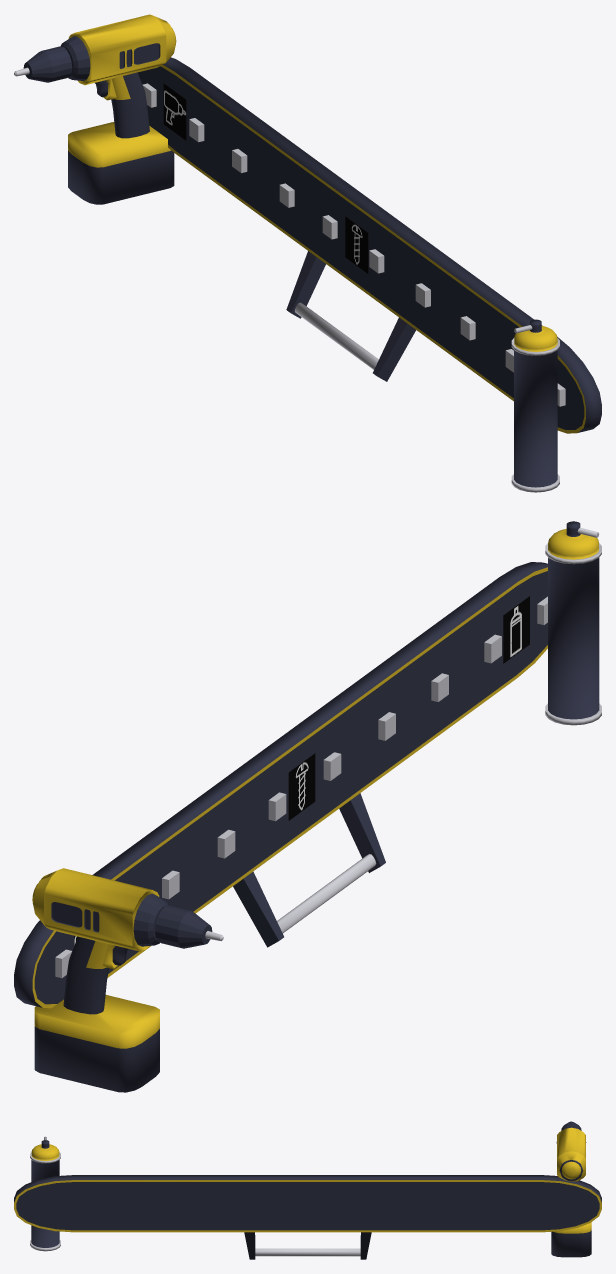
Rendered from FloodTools.fbx.
3 renders of one model, top to bottom at view 1: azimuth 30°, elevation 25°; view 2: azimuth 150°, elevation 25°; view 3: azimuth 270°, elevation 25°, orthographic. The views are drawn at different scales.
Parts seen in each view (by area): view 1: Belt, Trigger_Main, SprayCan, Icons, Handle; view 2: Belt, Trigger_Main, SprayCan, Icons, Handle; view 3: Belt, Trigger_Main, SprayCan, Handle.
Part boxes in pixels (x1,y1,x2,y2): Belt: [137, 57, 601, 433]; Trigger_Main: [23, 14, 176, 204]; SprayCan: [511, 319, 559, 492]; Icons: [163, 83, 368, 273]; Handle: [294, 302, 378, 369]; Belt: [14, 562, 547, 1008]; Trigger_Main: [32, 868, 212, 1092]; SprayCan: [545, 521, 601, 725]; Icons: [74, 596, 529, 945]; Handle: [277, 854, 376, 933]; Belt: [14, 1175, 601, 1259]; Trigger_Main: [551, 1121, 591, 1257]; SprayCan: [30, 1136, 60, 1251]; Handle: [255, 1248, 360, 1256].
Size of the model in its own units: 20.05 by 21.73 by 101.
